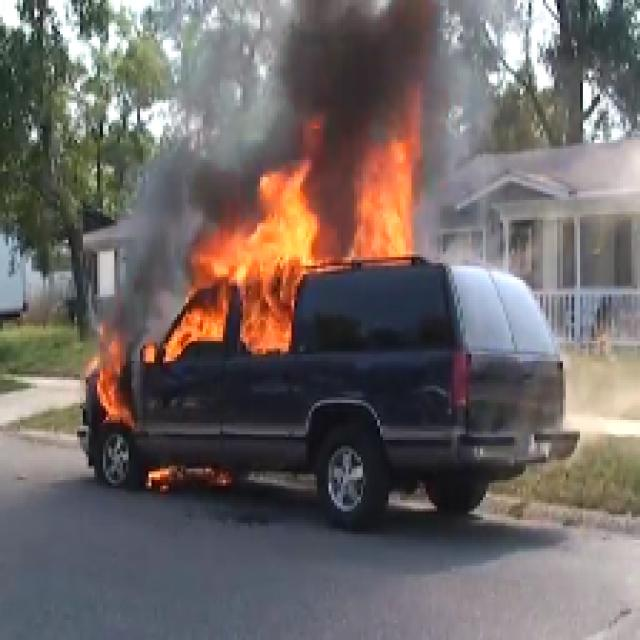fire: (192, 188, 418, 262), (187, 273, 299, 363)
smoke: (277, 8, 434, 162), (121, 181, 181, 321)
